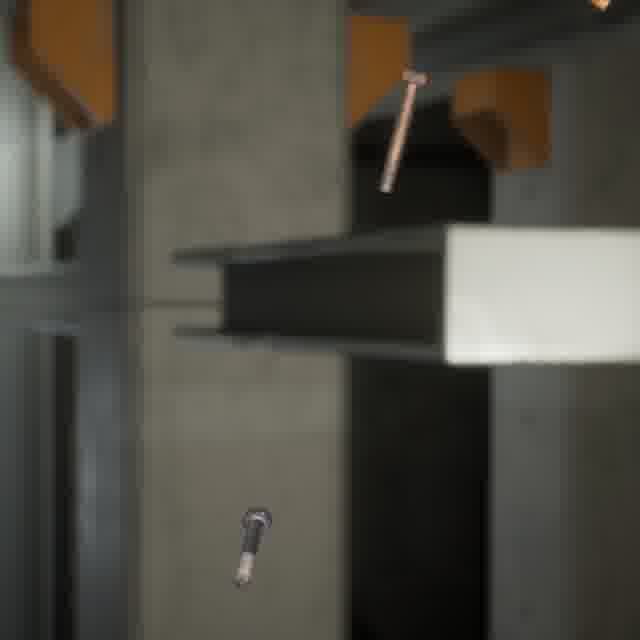bolt: (374, 64, 432, 198), (228, 502, 277, 592)
